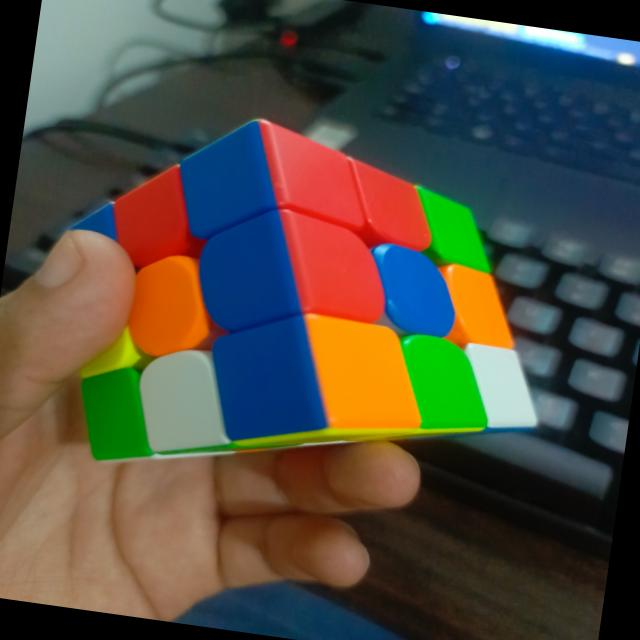rubik: (28, 91, 576, 522)
